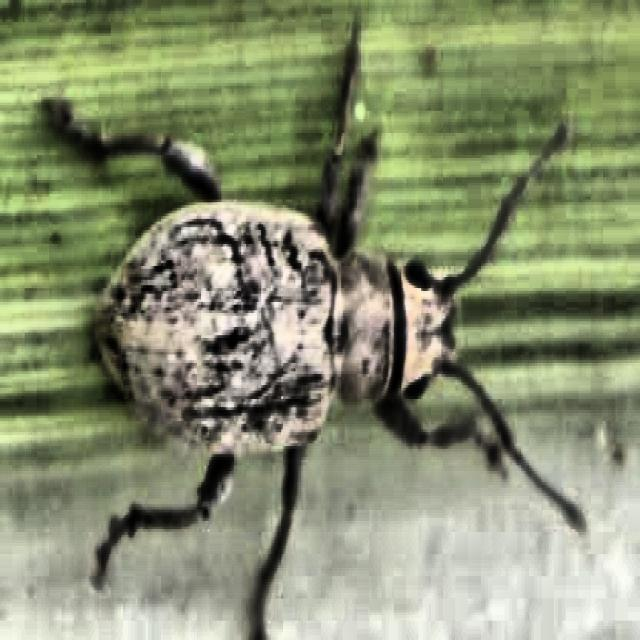Stink bug: (46, 56, 580, 558)
